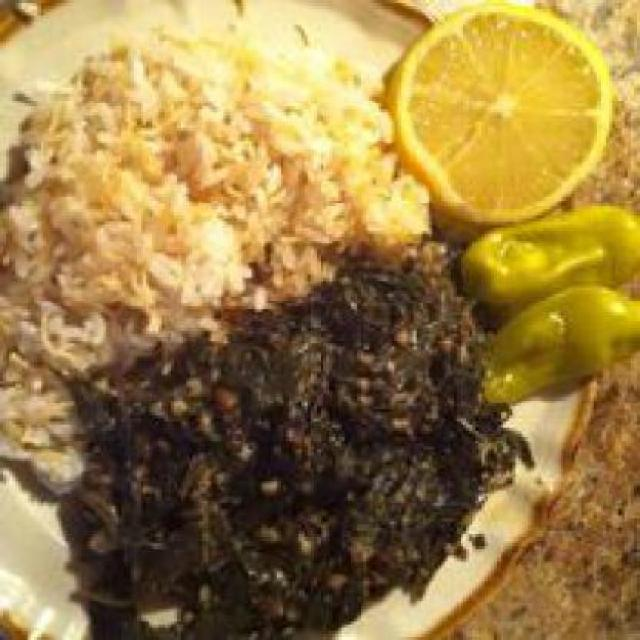fried rice: (6, 28, 426, 324)
molokhia: (81, 246, 519, 637)
